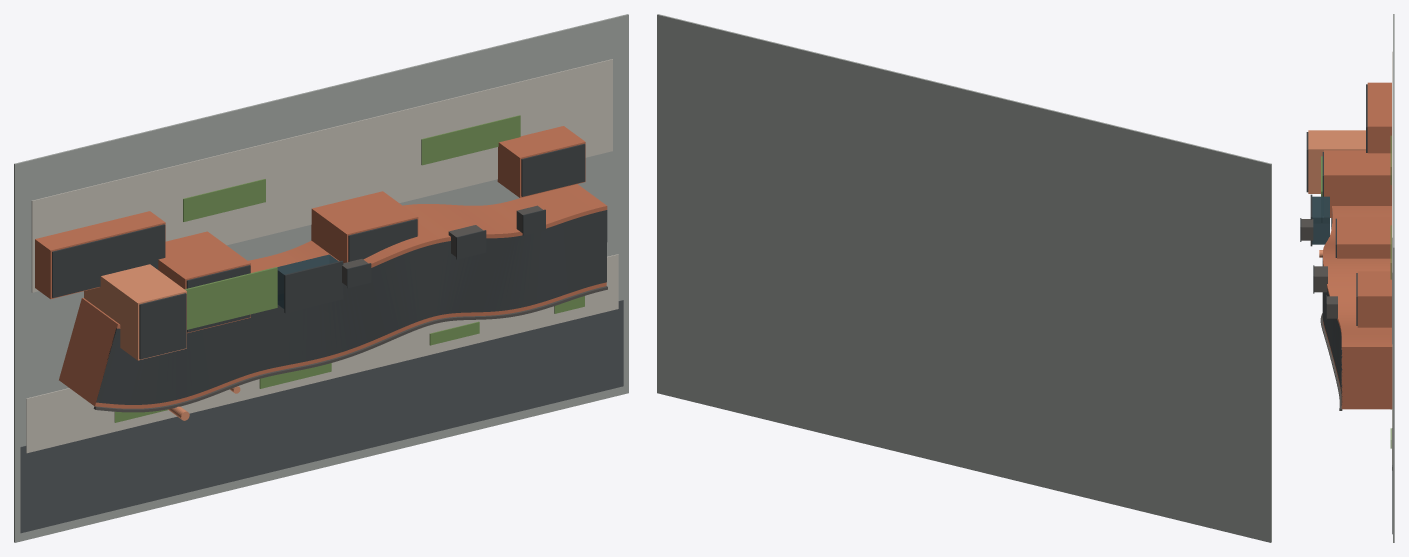
Rendered from space_agency_wave_building.glb.
The picture shows the model from 3 angles, left to right: view 1: azimuth 30°, elevation 25°; view 2: azimuth 150°, elevation 25°; view 3: azimuth 270°, elevation 25°; orthographic projection. The views are drawn at different scales.
Parts seen in each view (by area): view 1: concrete, site, roof, asphalt, terracotta, green, terracotta_light, metal, glass; view 2: site; view 3: terracotta, terracotta_light, roof, metal, site, glass, concrete, green, asphalt.
Part boxes in pixels (x1,y1,x2,y2): concrete: (26,59,618,453); site: (14,14,628,542); roof: (52,143,607,404); asphalt: (20,300,623,533); terracotta: (35,126,607,408); green: (114,115,584,422); terracotta_light: (84,264,240,420); metal: (93,205,607,412); glass: (277,254,338,308); site: (657,14,1271,542); terracotta: (1323,82,1392,409); terracotta_light: (1308,130,1365,257); roof: (1300,84,1367,405); metal: (1301,219,1342,410); site: (1393,14,1394,542); glass: (1312,196,1329,244); concrete: (1392,51,1392,470); green: (1321,135,1391,448); asphalt: (1392,238,1392,534).
Bounding box in the file's own units: 112 × 66 × 19.04.
